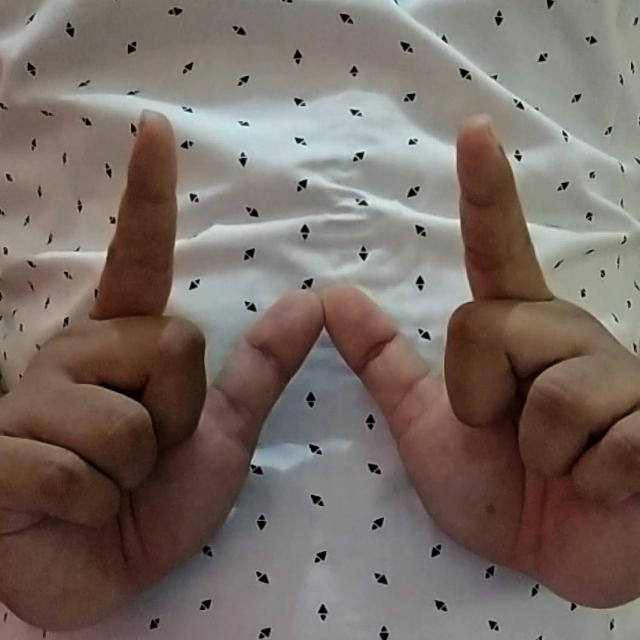W: (1, 93, 636, 635)
